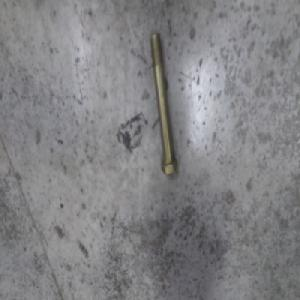Bolt: (148, 33, 178, 175)
